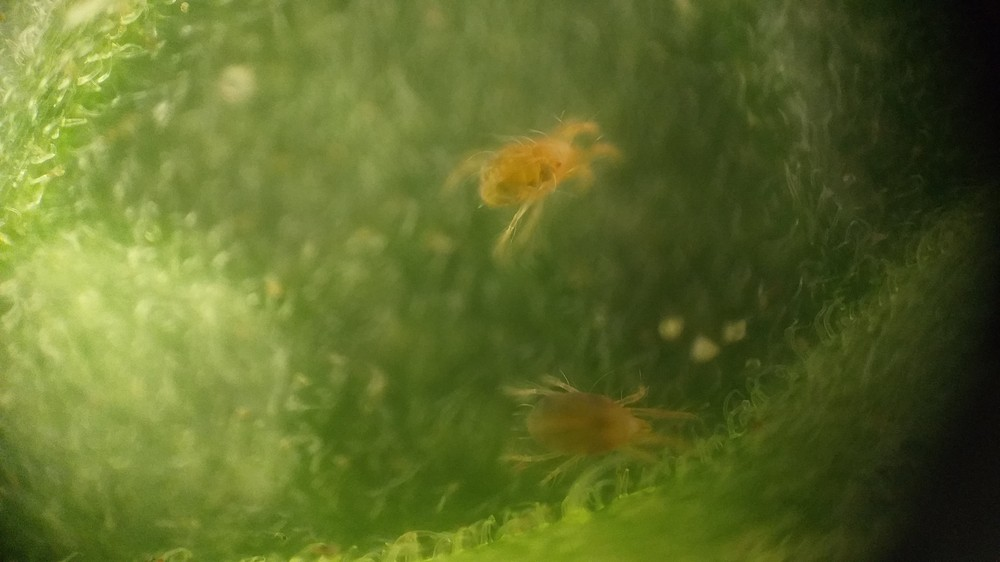Aracnido Rojo: (477, 350, 714, 482), (441, 96, 635, 246)
